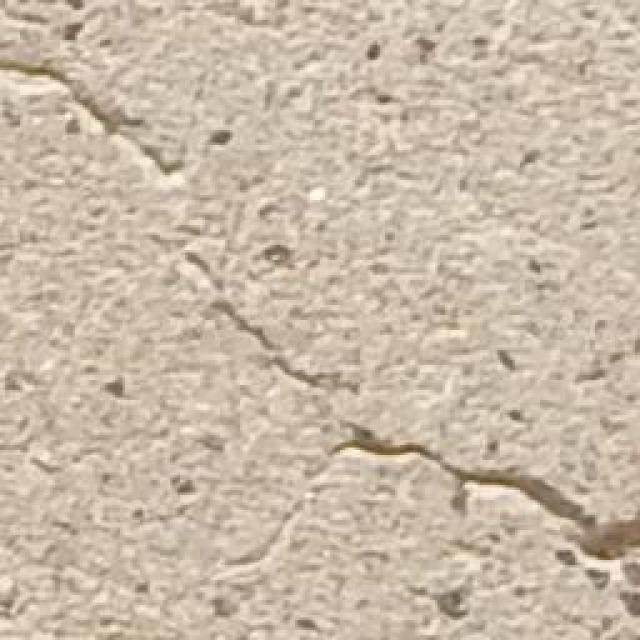concrete-crack: (4, 230, 640, 615), (5, 64, 191, 185)
